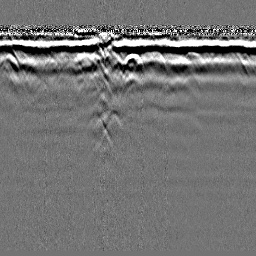cavity: (121, 52, 144, 70)
